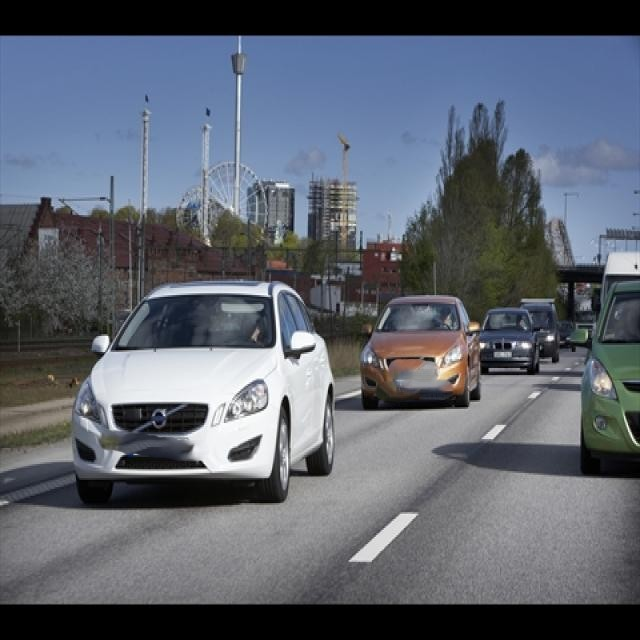car: (68, 280, 334, 506), (360, 292, 481, 404), (488, 306, 537, 371)
